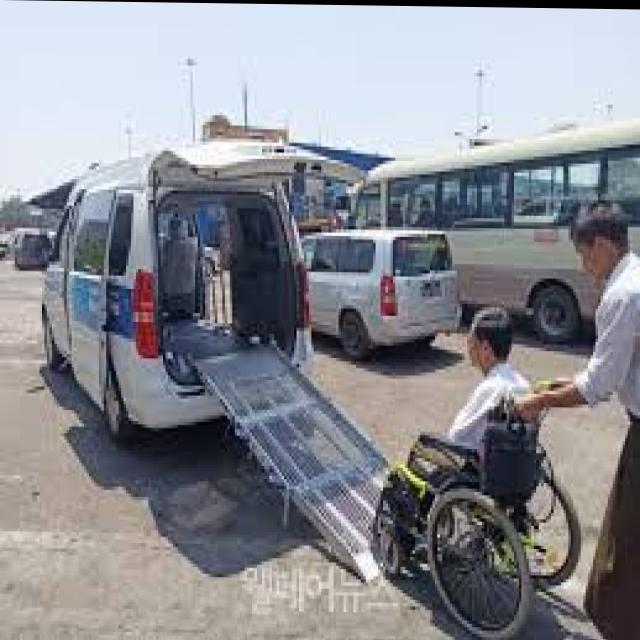wheelchair: (368, 305, 584, 640)
